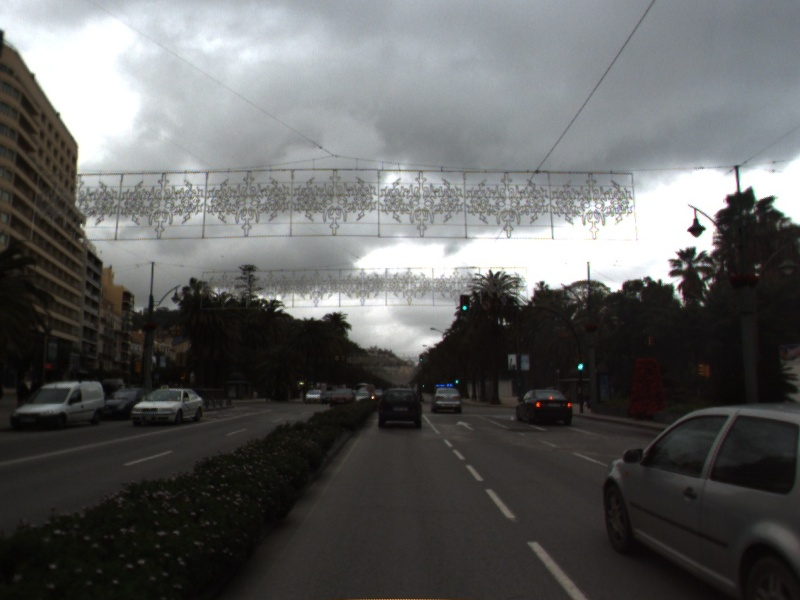STRAIGHT: (454, 419, 477, 433)
